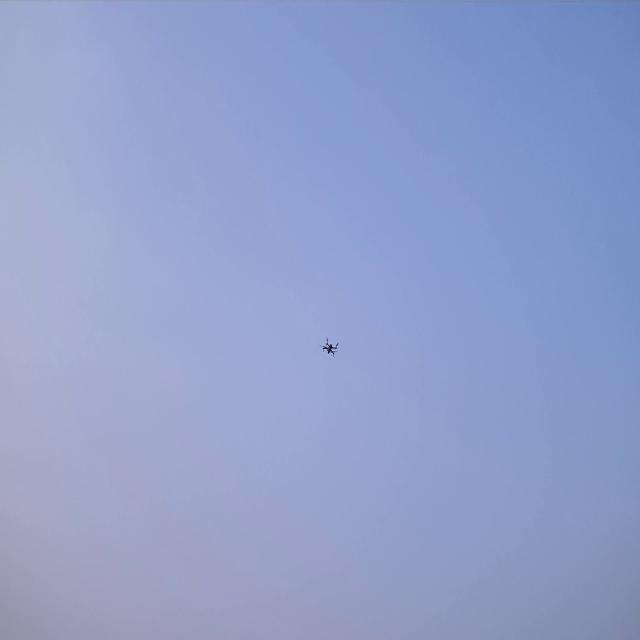UAV: (319, 335, 341, 359)
